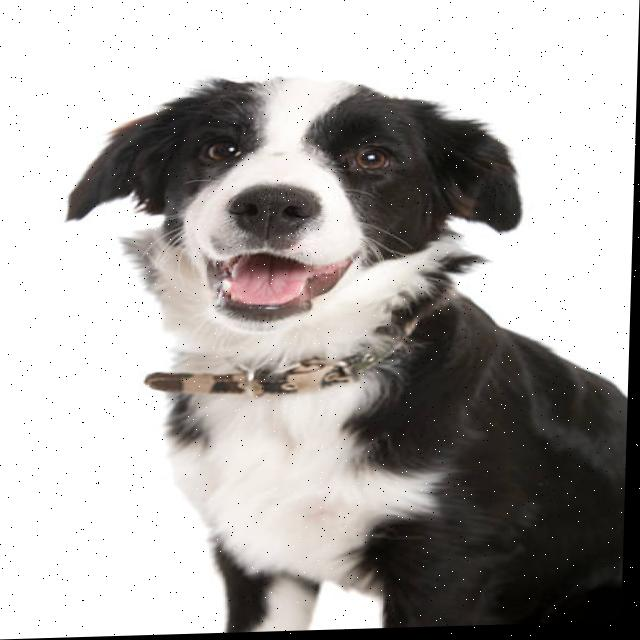BORDER_COLLIE: (33, 56, 638, 639)
